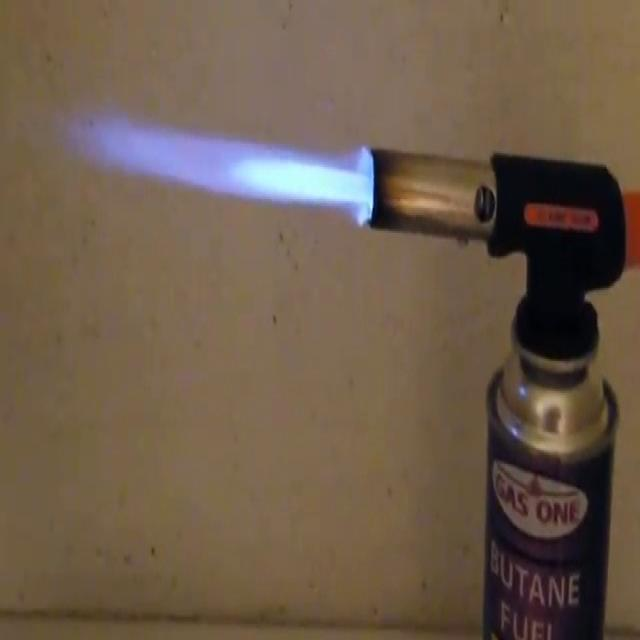fire: (46, 36, 374, 255)
